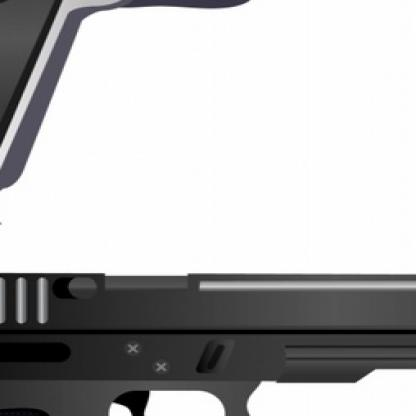gun: (0, 0, 415, 217), (0, 260, 415, 415)
